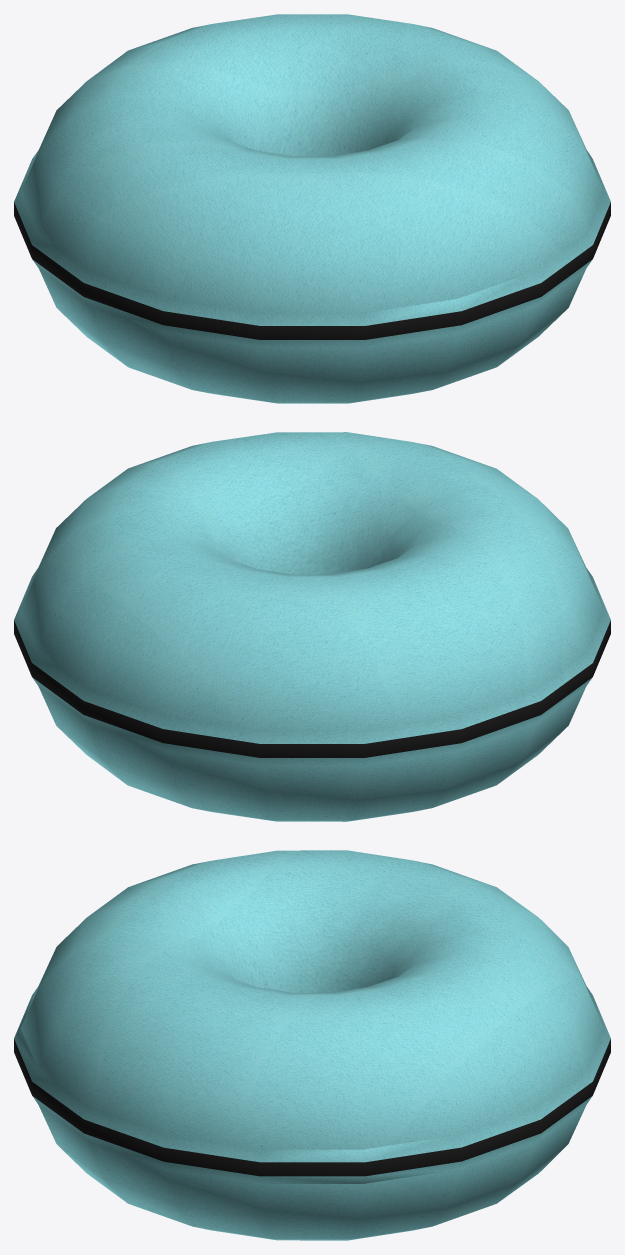
File: YGB0110052.fbx
The picture shows the model from 3 angles, top to bottom: view 1: azimuth 30°, elevation 25°; view 2: azimuth 150°, elevation 25°; view 3: azimuth 270°, elevation 25°; orthographic projection.
Visible parts, largest first — view 1: smYGB0110052; view 2: smYGB0110052; view 3: smYGB0110052.
Part boxes in pixels (bbox=[...]): smYGB0110052: bbox=[14, 14, 610, 403]; smYGB0110052: bbox=[14, 432, 610, 821]; smYGB0110052: bbox=[14, 850, 610, 1240].
Size of the model in its own units: 91 by 39.11 by 92.44.
Materials: 1 (1 with a texture image).
